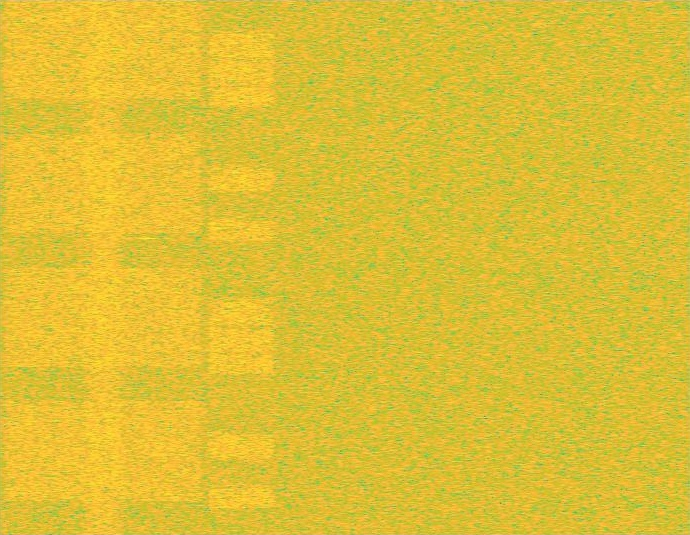5G: (0, 0, 207, 534)
DSSS: (80, 0, 127, 534)
LTE: (207, 0, 276, 534)
Radar: (140, 0, 154, 534)
